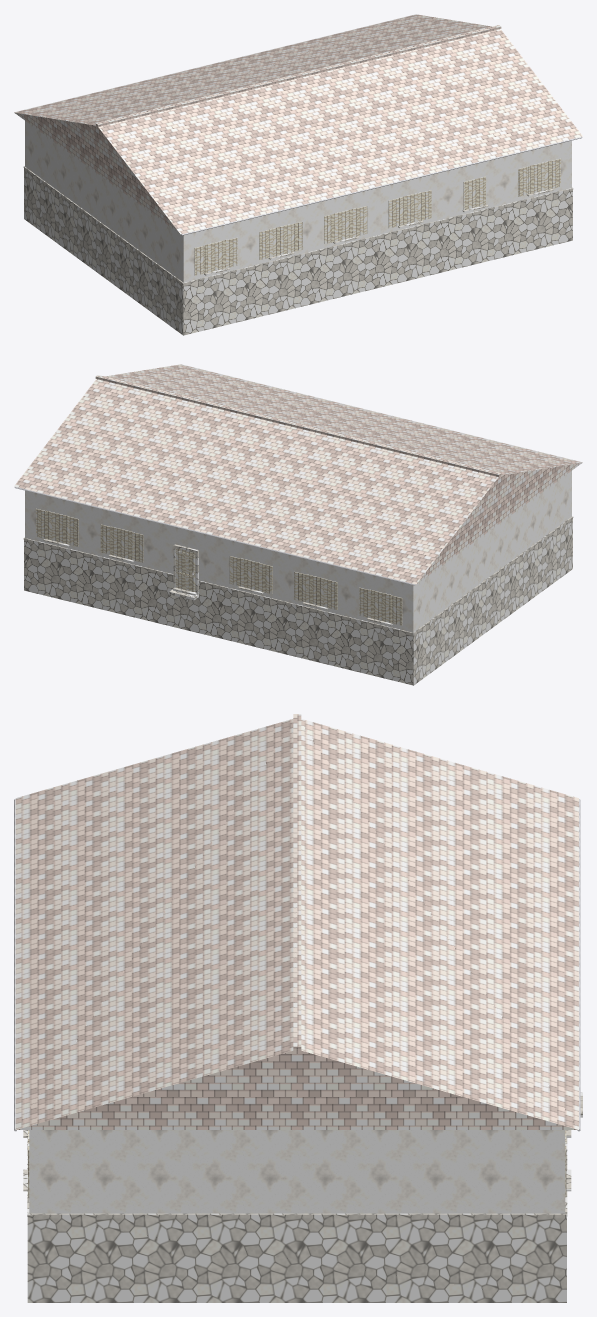
The picture shows the model from 3 angles, top to bottom: view 1: azimuth 30°, elevation 25°; view 2: azimuth 150°, elevation 25°; view 3: azimuth 270°, elevation 25°; orthographic projection. The views are drawn at different scales.
Visible parts, largest first — view 1: b1084716808; view 2: b1084716808; view 3: b1084716808.
Boxes of the visible parts, <box> form: b1084716808: <box>14,14,582,335</box>; b1084716808: <box>14,364,582,685</box>; b1084716808: <box>14,714,582,1302</box>.
Bounding box in the file's own units: 20 × 7.34 × 14.46.
Materials: 16 (16 with a texture image).
